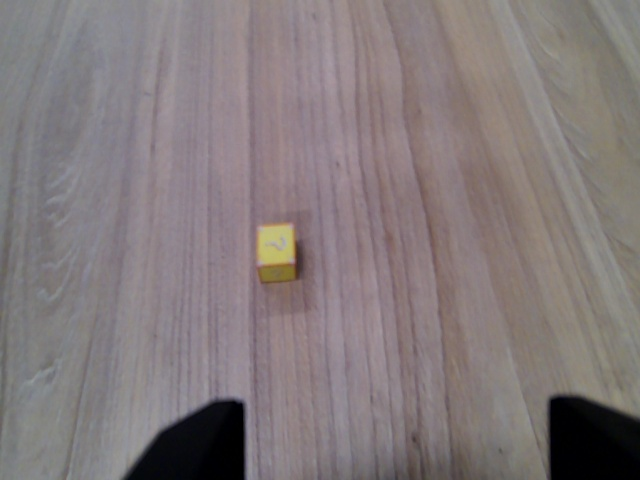lucky: (251, 220, 304, 288)
